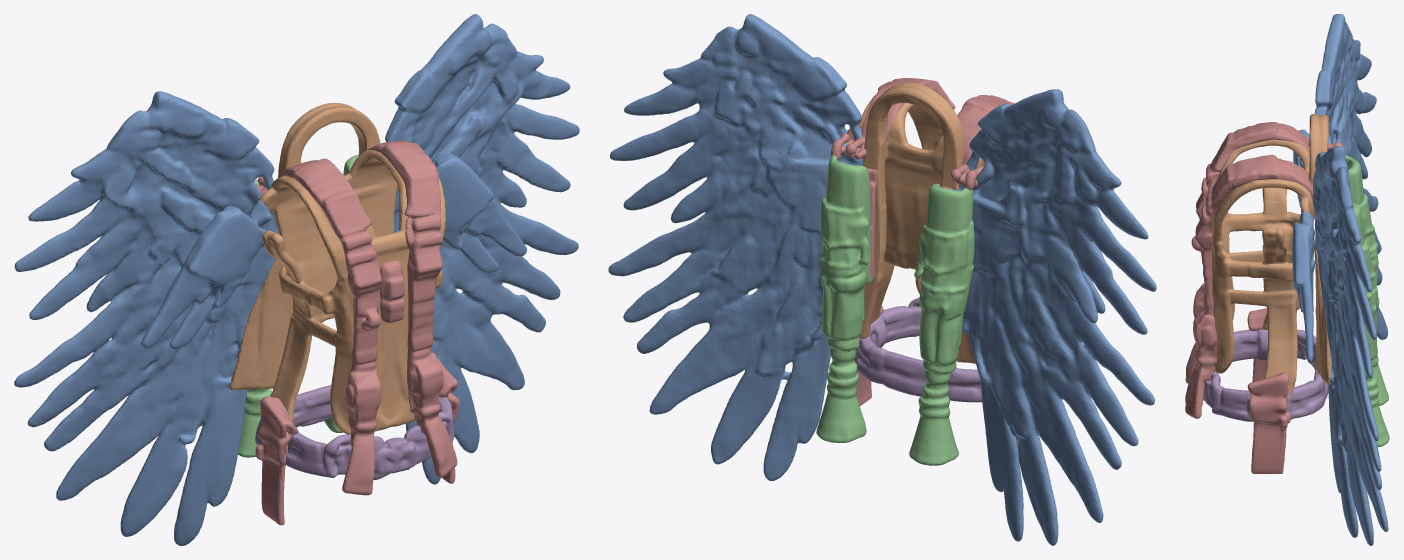
The model's file is feathered_jetpack_2.glb.
3 renders of one model, left to right at view 1: azimuth 30°, elevation 25°; view 2: azimuth 150°, elevation 25°; view 3: azimuth 270°, elevation 25°, orthographic. The views are drawn at different scales.
Visible parts, largest first — view 1: Metal_Feathers, Wing_Frame, Harness_Straps, Halo_Control_Ring, Thruster_Tips; view 2: Metal_Feathers, Thruster_Tips, Wing_Frame, Halo_Control_Ring, Harness_Straps; view 3: Metal_Feathers, Wing_Frame, Harness_Straps, Halo_Control_Ring, Thruster_Tips.
Part boxes in pixels (x1,y1,x2,y2): Metal_Feathers: (14, 14, 579, 545); Wing_Frame: (229, 102, 445, 434); Harness_Straps: (254, 140, 459, 525); Halo_Control_Ring: (255, 385, 454, 479); Thruster_Tips: (238, 154, 358, 457); Metal_Feathers: (608, 14, 1156, 545); Thruster_Tips: (816, 155, 974, 465); Wing_Frame: (847, 82, 984, 363); Halo_Control_Ring: (854, 298, 982, 402); Harness_Straps: (831, 78, 1018, 449); Metal_Feathers: (1292, 14, 1388, 545); Wing_Frame: (1212, 114, 1331, 400); Harness_Straps: (1185, 122, 1345, 473); Halo_Control_Ring: (1203, 329, 1328, 421); Thruster_Tips: (1345, 155, 1389, 447).
Size of the model in its own units: 1.92 by 1.52 by 0.6972.
